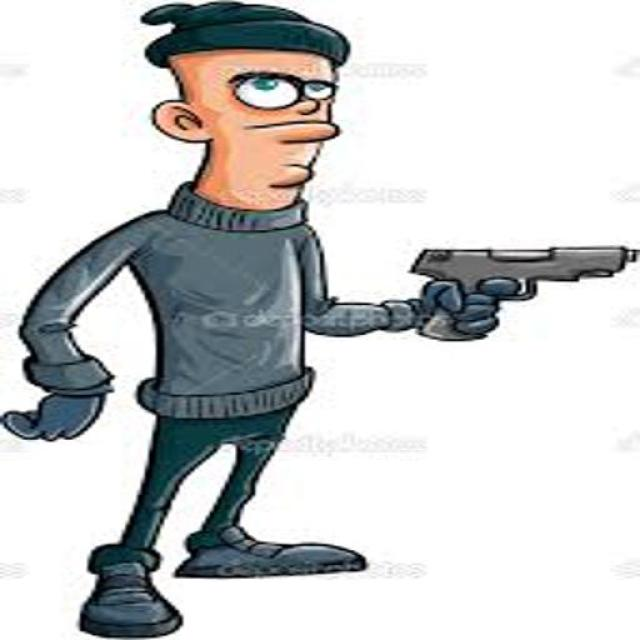pistol: (411, 245, 640, 341)
